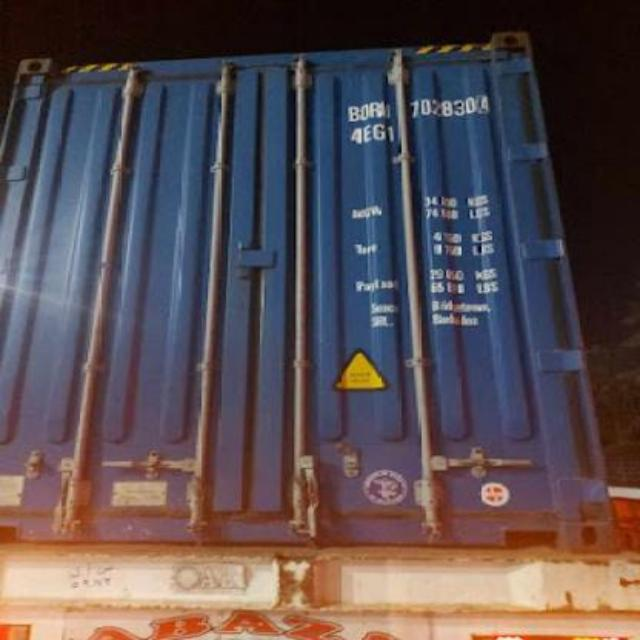0: (464, 94, 476, 116), (420, 95, 430, 116)
2: (430, 96, 440, 120)
3: (454, 94, 464, 118)
4: (478, 94, 492, 116)
7: (408, 94, 420, 122)
8: (440, 95, 452, 119)
B: (346, 100, 358, 124)
O: (360, 100, 370, 122)
R: (368, 98, 382, 120)
U: (382, 98, 394, 119)
